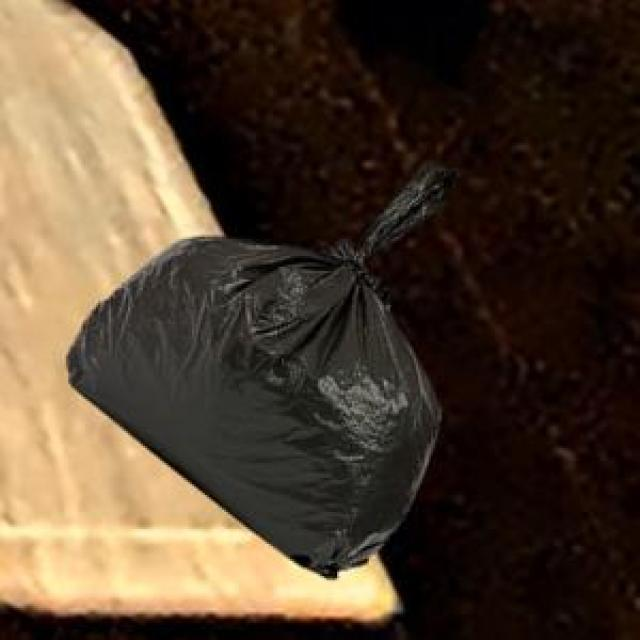miscellaneous trash: (62, 160, 454, 574)
